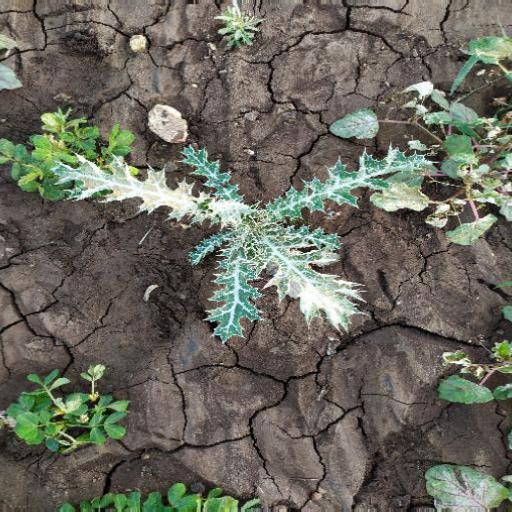weed: (57, 123, 429, 338)
